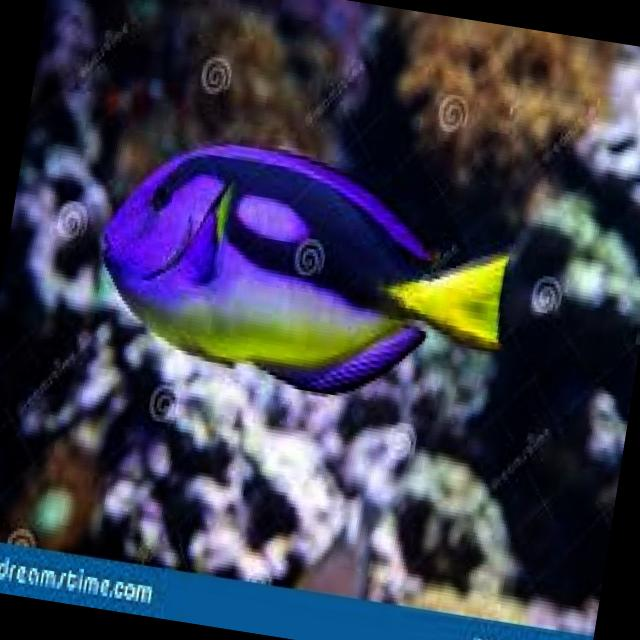TangFish: (73, 120, 530, 431)
